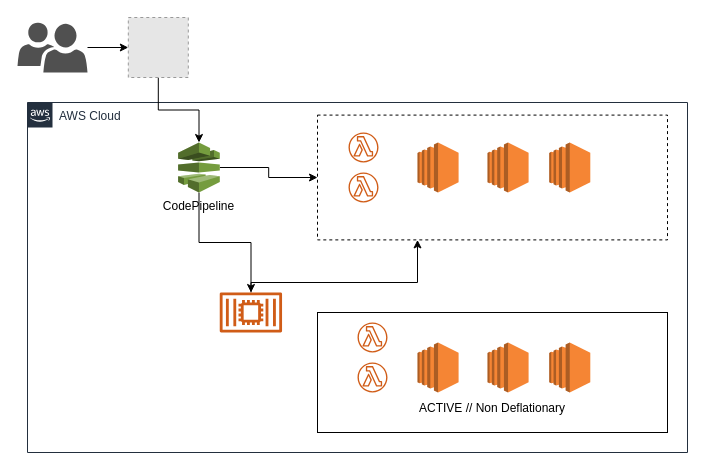
Image size: 705x470. Some labels were removed from this diagram. Grey dashed boxes stand in for pictures. The box of each missing label's shape, as (x1, y1, x2, y2) in pixels:
Cluster Health Test: (219, 292, 282, 332)
INACTIVE // Deflationary: (316, 114, 668, 240)
